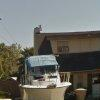Boat: (20, 48, 78, 100)
